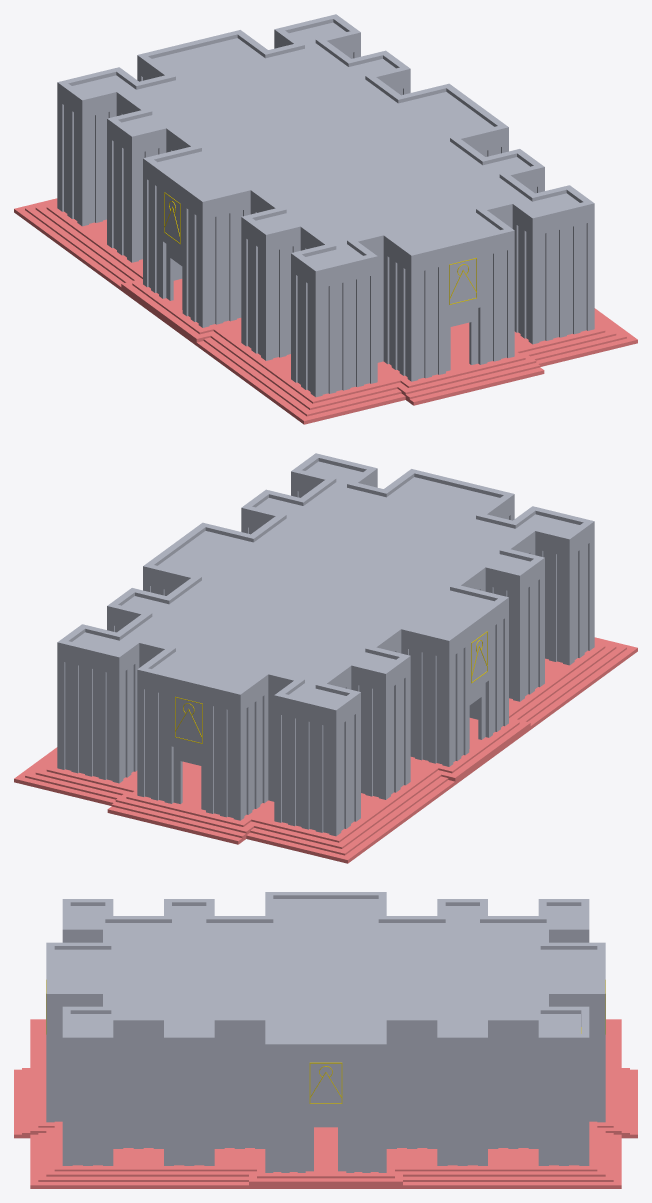
File: VARC_Zoser.glb
3 renders of one model, top to bottom at view 1: azimuth 30°, elevation 25°; view 2: azimuth 150°, elevation 25°; view 3: azimuth 270°, elevation 25°, orthographic.
Visible parts, largest first — view 1: mass; view 2: mass; view 3: mass.
Part boxes in pixels (left/top/right/bottom): mass: left=14, top=14, right=637, bottom=424; mass: left=14, top=453, right=637, bottom=863; mass: left=14, top=892, right=637, bottom=1188.
Size of what is drawn, in the model's own units: 29.57 by 11.43 by 46.94.
